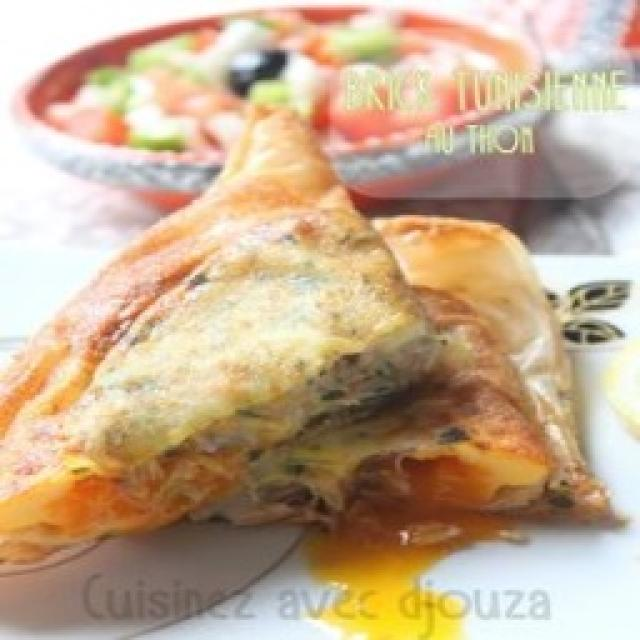Brik: (0, 100, 620, 578)
